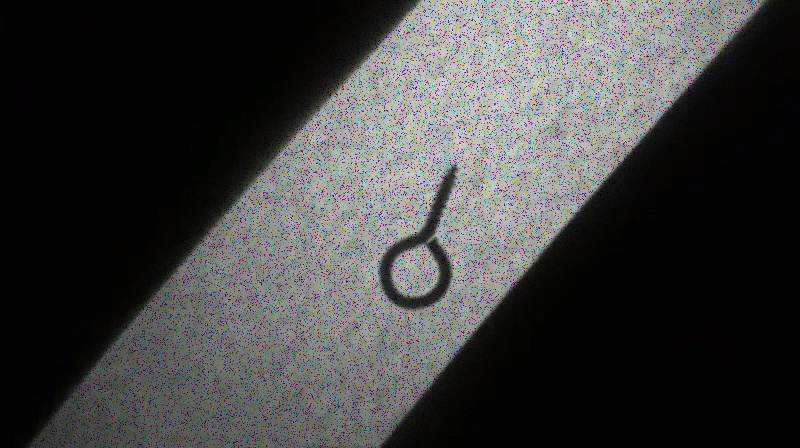O001: (373, 160, 461, 312)
